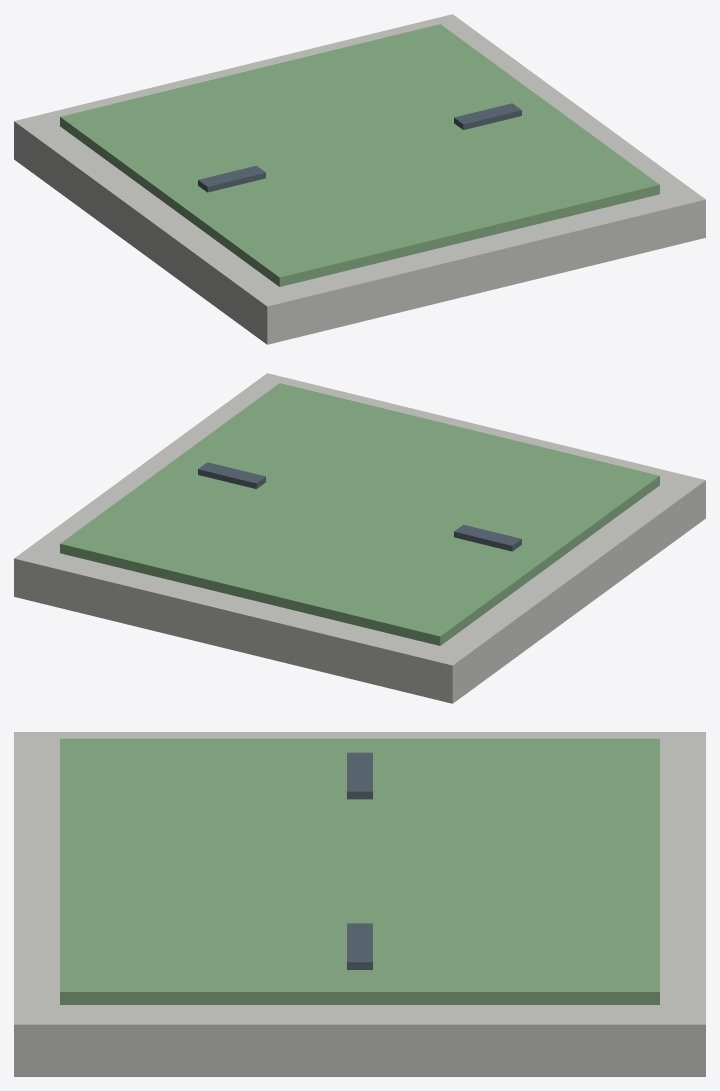
The model's file is american-football-stadium-kit-turf-access-hatch-8ae46ea7__22326.glb.
The picture shows the model from 3 angles, top to bottom: view 1: azimuth 30°, elevation 25°; view 2: azimuth 150°, elevation 25°; view 3: azimuth 270°, elevation 25°; orthographic projection. The views are drawn at different scales.
Visible parts, largest first — view 1: turf-access-hatch; view 2: turf-access-hatch; view 3: turf-access-hatch.
Part boxes in pixels (x1,y1,x2,y2): turf-access-hatch: (14, 14, 705, 344); turf-access-hatch: (14, 373, 705, 703); turf-access-hatch: (14, 732, 705, 1076).
Size of the model in its own units: 1.2 by 0.14 by 1.2.
